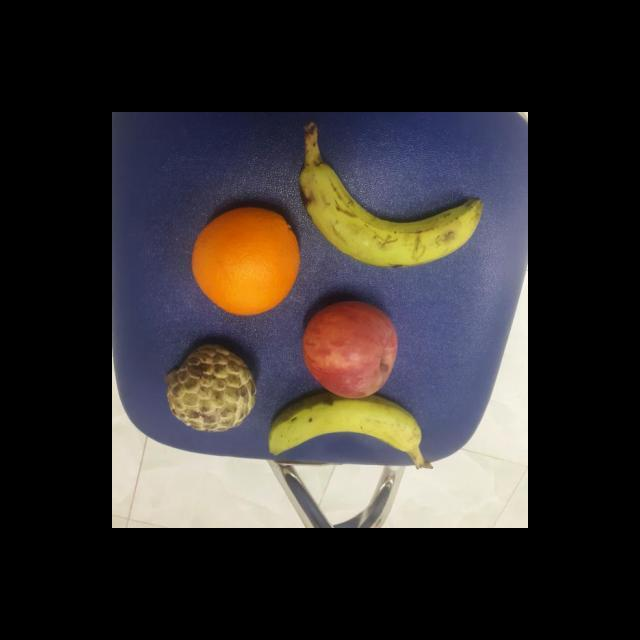Sakya fruit: (164, 341, 260, 435)
apple: (299, 298, 402, 401)
banana: (294, 155, 488, 274), (267, 394, 426, 464)
orange: (188, 203, 306, 316)
